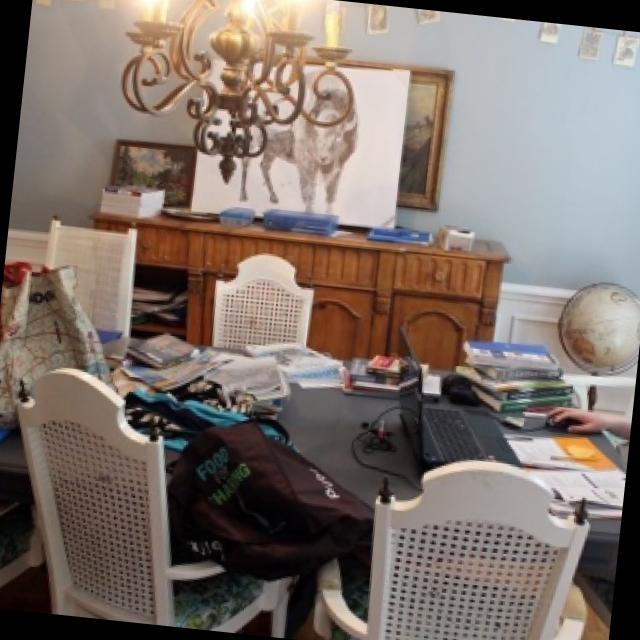mess: (0, 232, 640, 638), (84, 167, 524, 273)
